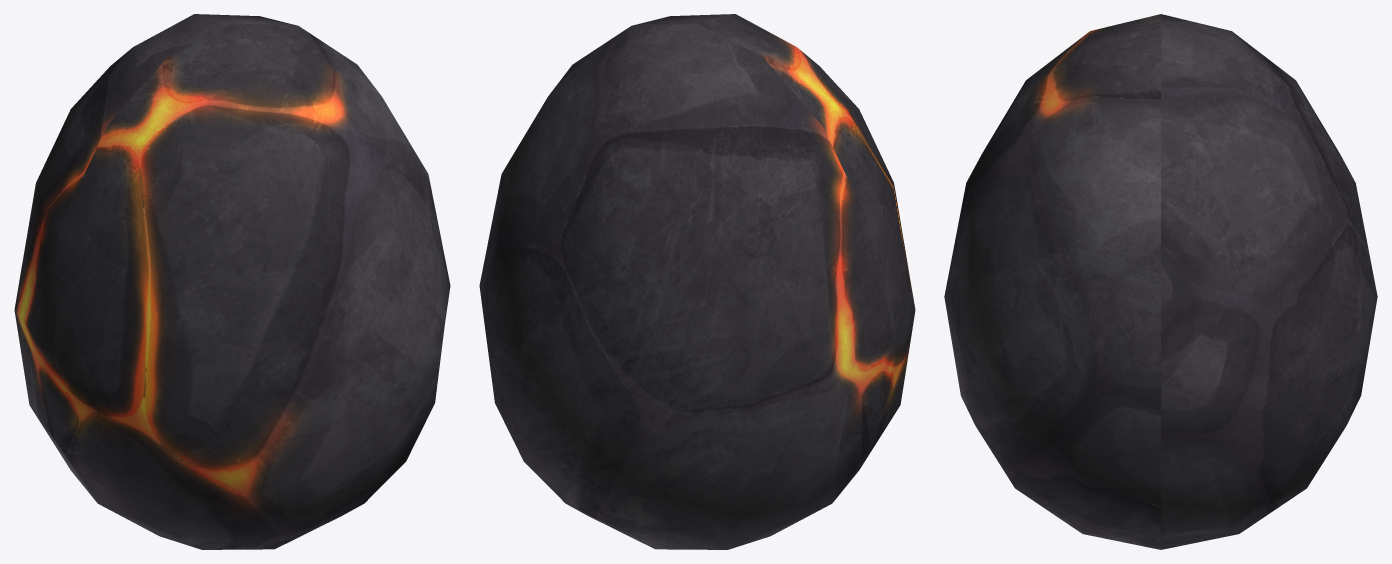
Rendered from Egg2-Map2.fbx.
3 renders of one model, left to right at view 1: azimuth 30°, elevation 25°; view 2: azimuth 150°, elevation 25°; view 3: azimuth 270°, elevation 25°, orthographic.
Parts seen in each view (by area): view 1: Egg2-Map2; view 2: Egg2-Map2; view 3: Egg2-Map2.
Boxes of the visible parts, bbox=[...] form: Egg2-Map2: bbox=[14, 14, 450, 549]; Egg2-Map2: bbox=[479, 14, 915, 549]; Egg2-Map2: bbox=[944, 14, 1377, 549].
Size of the model in its own units: 346 by 444 by 346.
